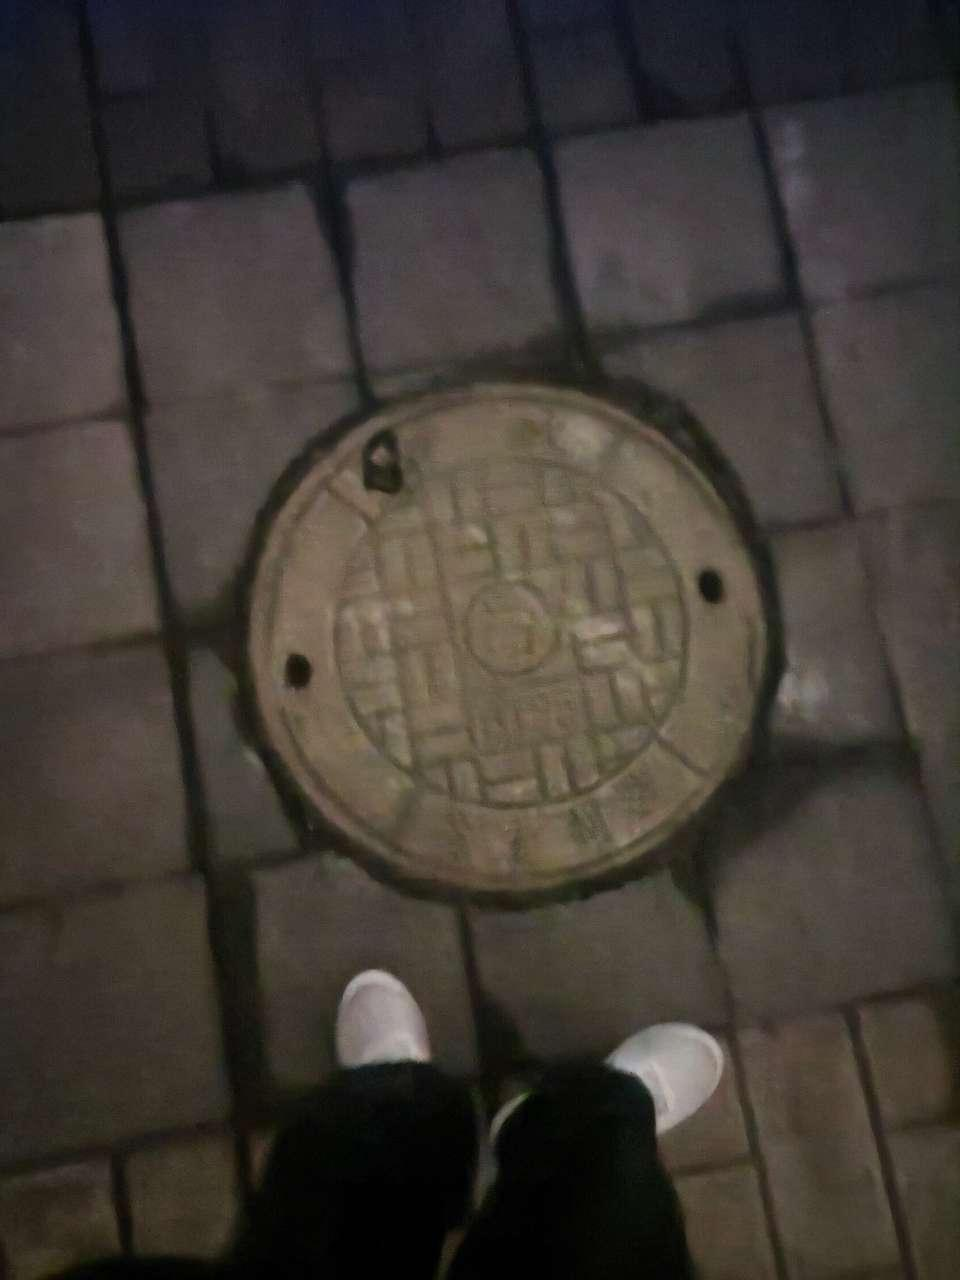wellcover: (241, 378, 798, 912)
